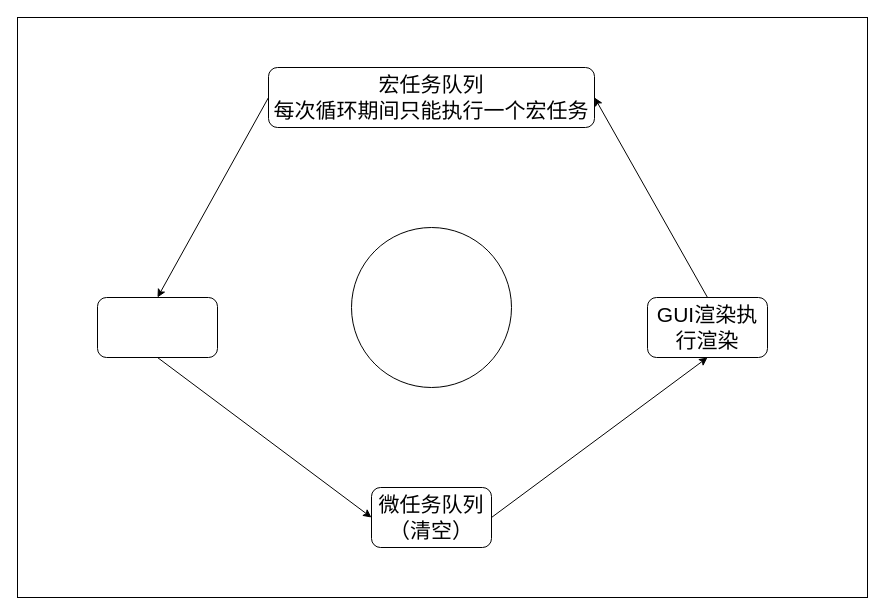
Image size: 885x615. Some labels were removed from this diagram. The shapes that lost their labels are listed below. From the top down, each one's centre as x and y in pixels, then its label:
point (157, 327): JS引擎线程执行栈
point (431, 307): 事件触发线程 Event Loop
